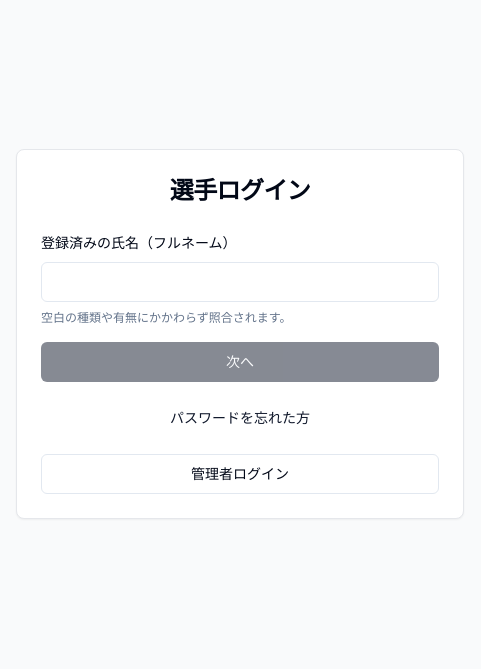
Test: AthleteLogin › does not submit initial setup when the confirmation differs
The width and height of the screenshot is (481, 669).
In the field labelled "登録済みの氏名（フルネーム）": x=240, y=282 [41,262,439,302], type "山田太郎"
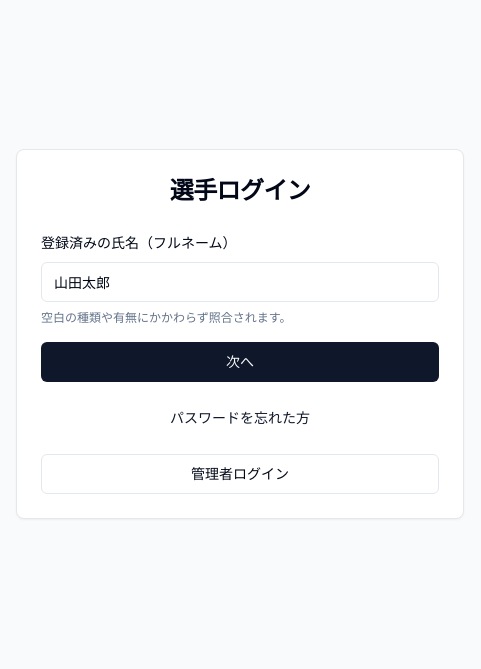
Click the button "次へ": x=240, y=362 [41,342,439,382]
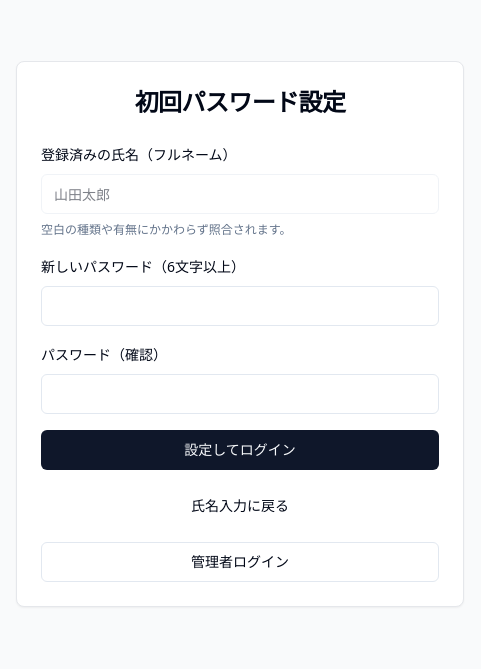
Now the heading "初回パスワード設定" is shown, box [135,85,345,118]
In the password field labelled "新しいパスワード（6文字以上）": x=240, y=306 [41,286,439,326], type "secret1"
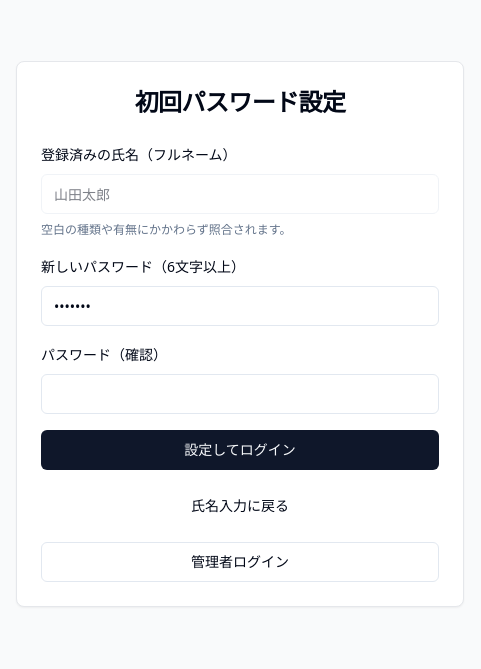
In the password field labelled "パスワード（確認）": x=240, y=394 [41,374,439,414], type "secret2"
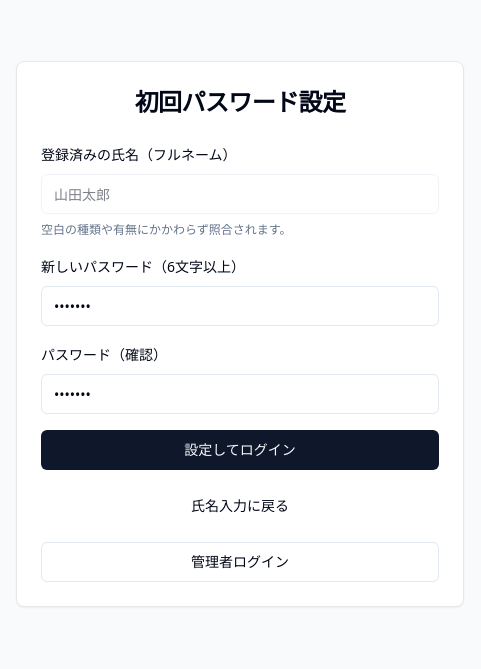
Click the button "設定してログイン": x=240, y=450 [41,430,439,470]
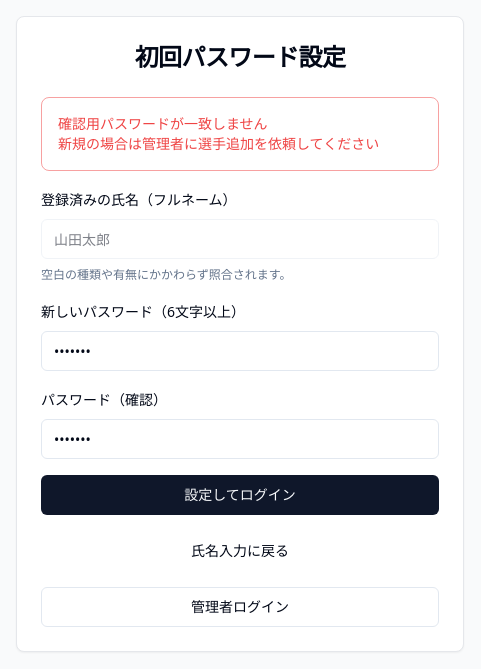
Now the message shows "確認用パスワードが一致しません", box [58,114,268,133]
